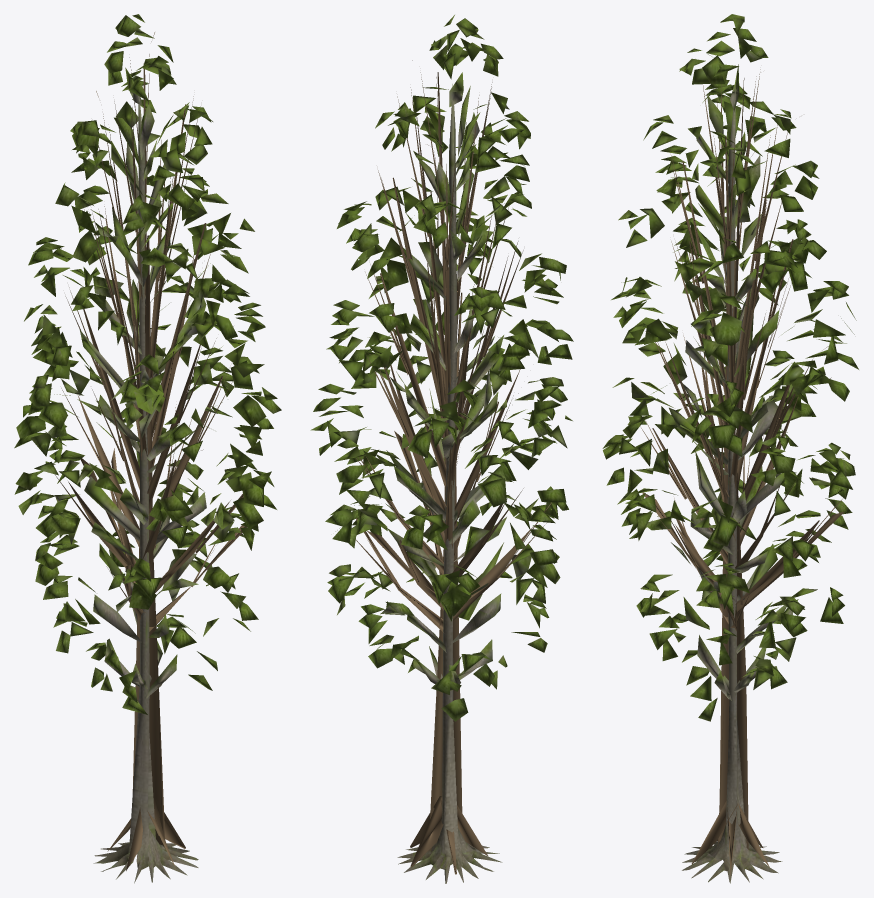
The model's file is upright-canopy-a.glb.
3 views of the same model, side by side, from view 1: azimuth 30°, elevation 25°; view 2: azimuth 150°, elevation 25°; view 3: azimuth 270°, elevation 25° (orthographic).
Size of the model in its own units: 0.2878 by 0.9977 by 0.2758.
Materials: 2 (1 with a texture image).
